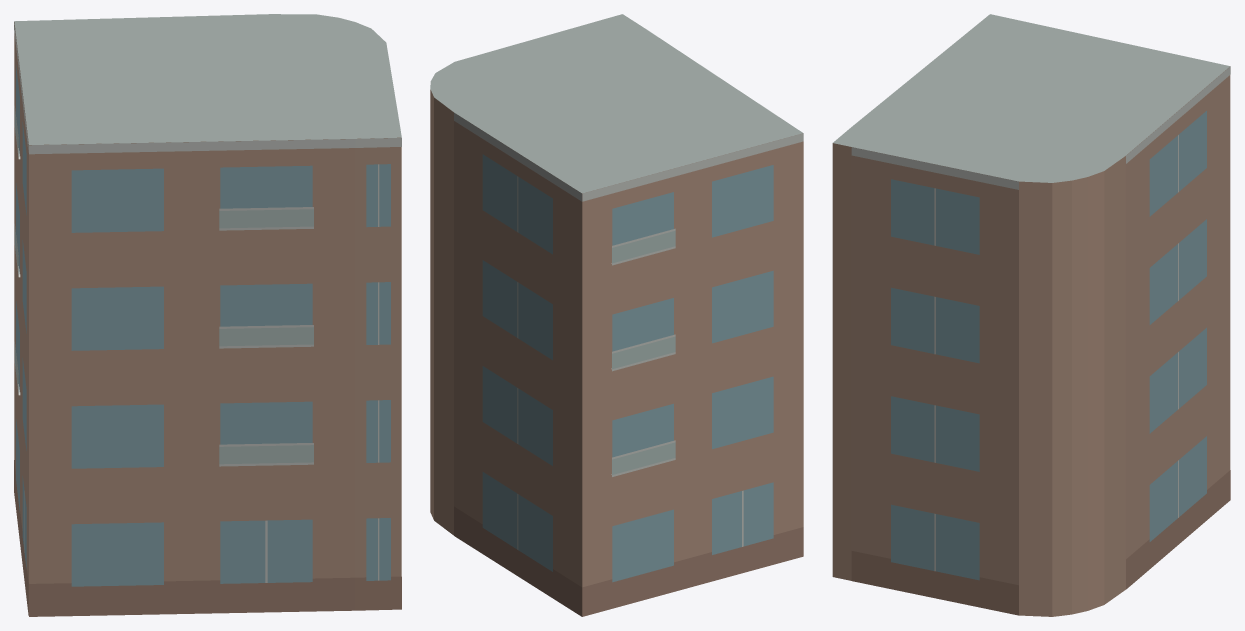
Rendered from survey-upis-32734753.glb.
The picture shows the model from 3 angles, left to right: view 1: azimuth 30°, elevation 25°; view 2: azimuth 150°, elevation 25°; view 3: azimuth 270°, elevation 25°; orthographic projection. The views are drawn at different scales.
Visible parts, largest first — view 1: survey-upis-32734753.tmp; view 2: survey-upis-32734753.tmp; view 3: survey-upis-32734753.tmp.
Boxes of the visible parts, x1,y1,x2,y2 form: survey-upis-32734753.tmp: [14, 14, 401, 616]; survey-upis-32734753.tmp: [430, 14, 803, 616]; survey-upis-32734753.tmp: [832, 14, 1230, 616].
Bounding box in the file's own units: 10.44 × 12.5 × 10.4.
